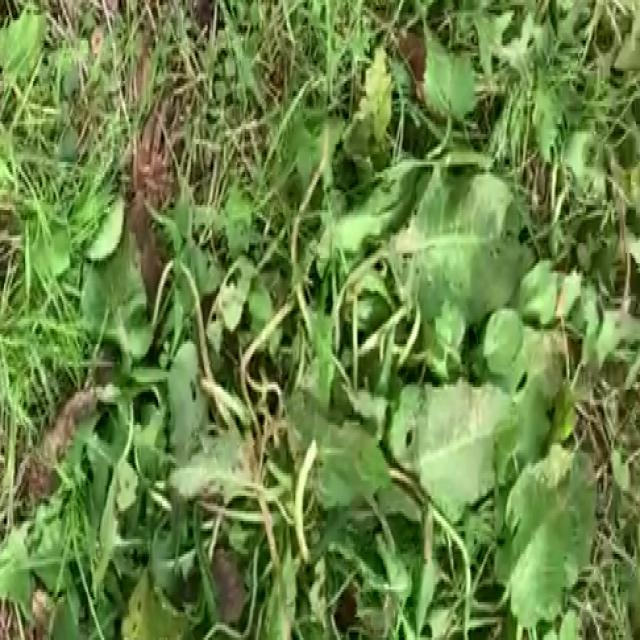organic waste: (27, 78, 640, 639)
